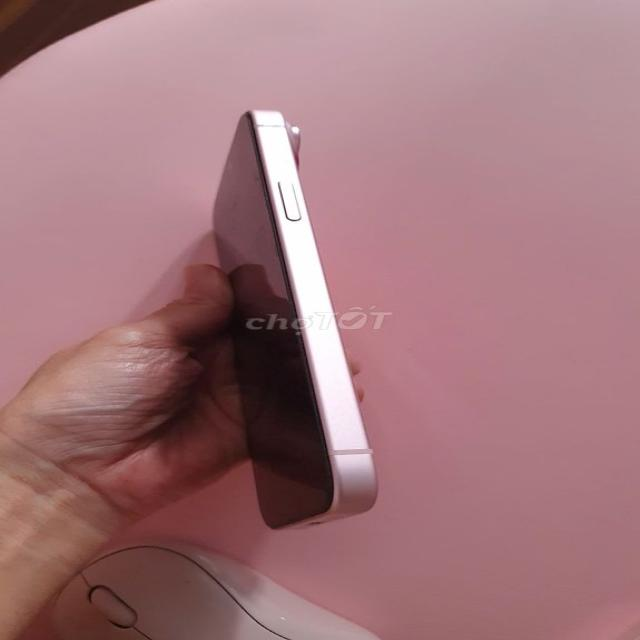gen_15: (180, 108, 406, 529)
